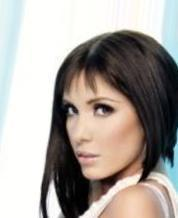face: (62, 99, 119, 163)
